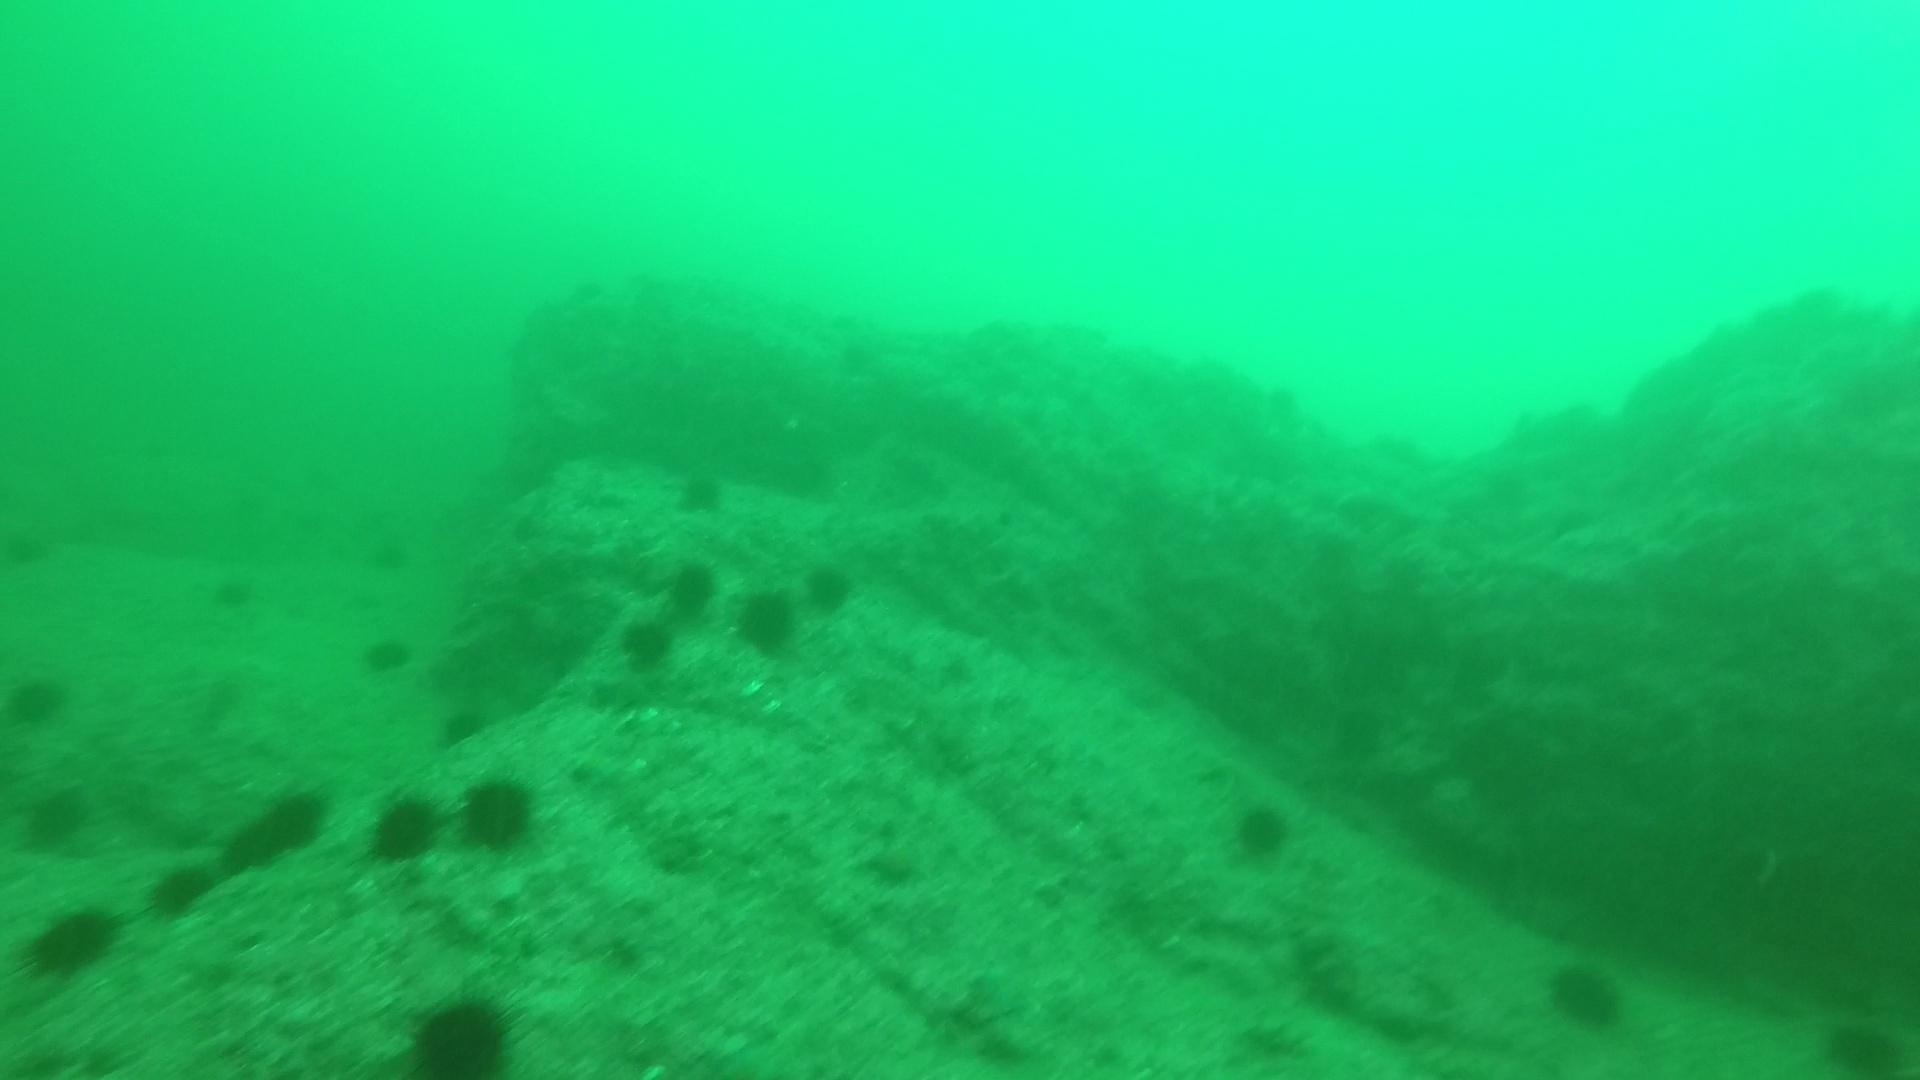echinus: (404, 988, 520, 1075), (18, 899, 125, 981), (454, 769, 545, 856), (1542, 955, 1629, 1033), (363, 789, 444, 868), (1816, 1011, 1909, 1076), (16, 781, 95, 855), (729, 583, 803, 659), (1224, 796, 1298, 865), (142, 857, 219, 922), (3, 665, 74, 731), (214, 818, 287, 880), (256, 789, 328, 851), (357, 522, 430, 584), (189, 549, 261, 611), (613, 612, 680, 676), (658, 555, 723, 622), (799, 556, 858, 617), (669, 464, 731, 518), (433, 700, 492, 752), (357, 630, 415, 679)
